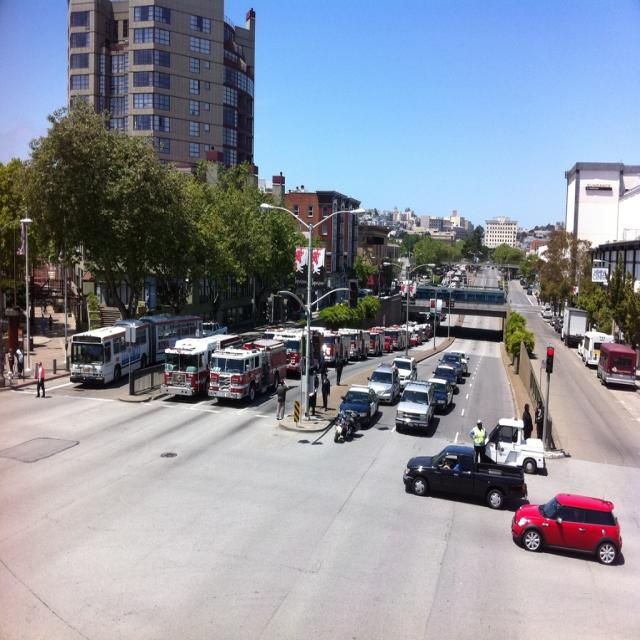car: (510, 487, 621, 561)
